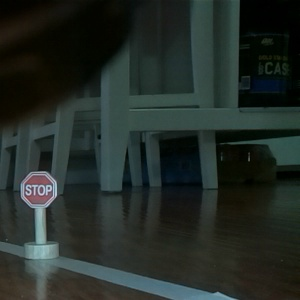stop sign: (19, 169, 63, 260)
